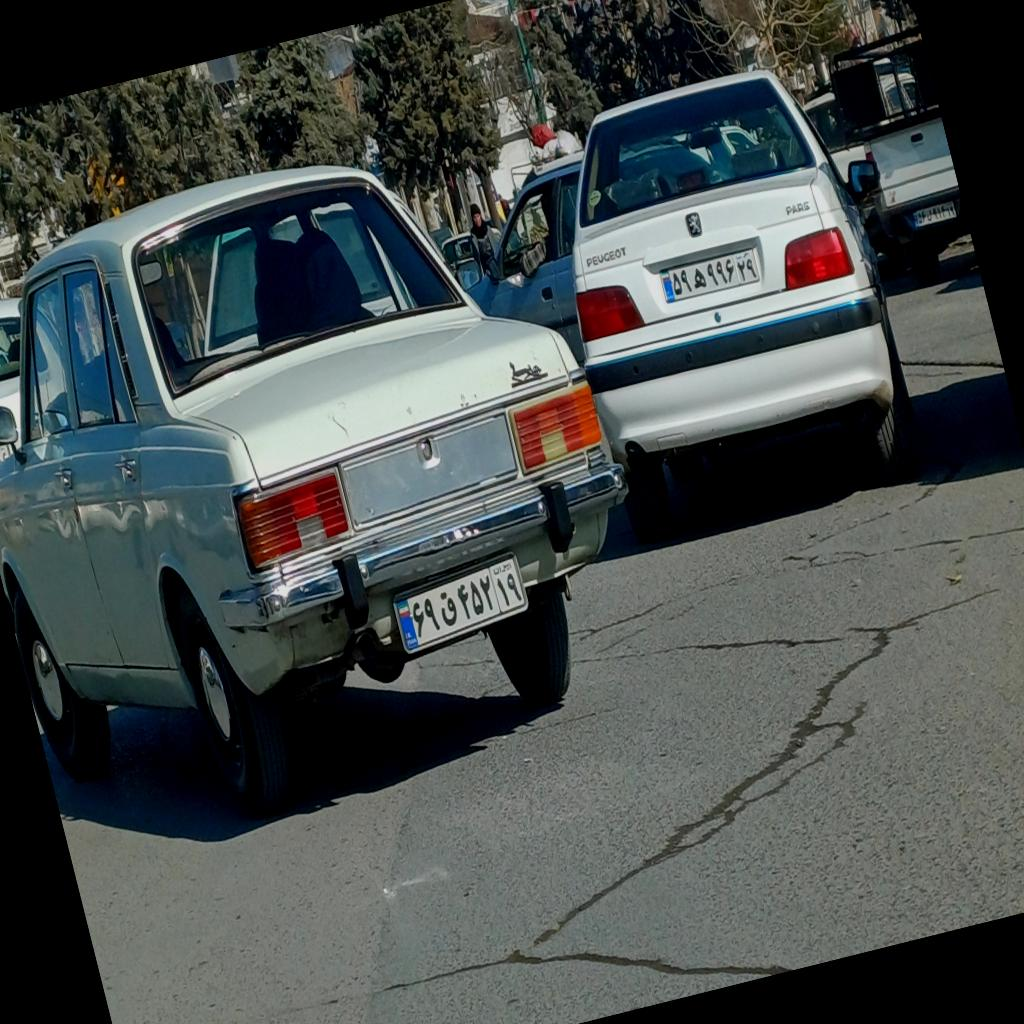Plates: (390, 554, 532, 648), (658, 244, 762, 306)
